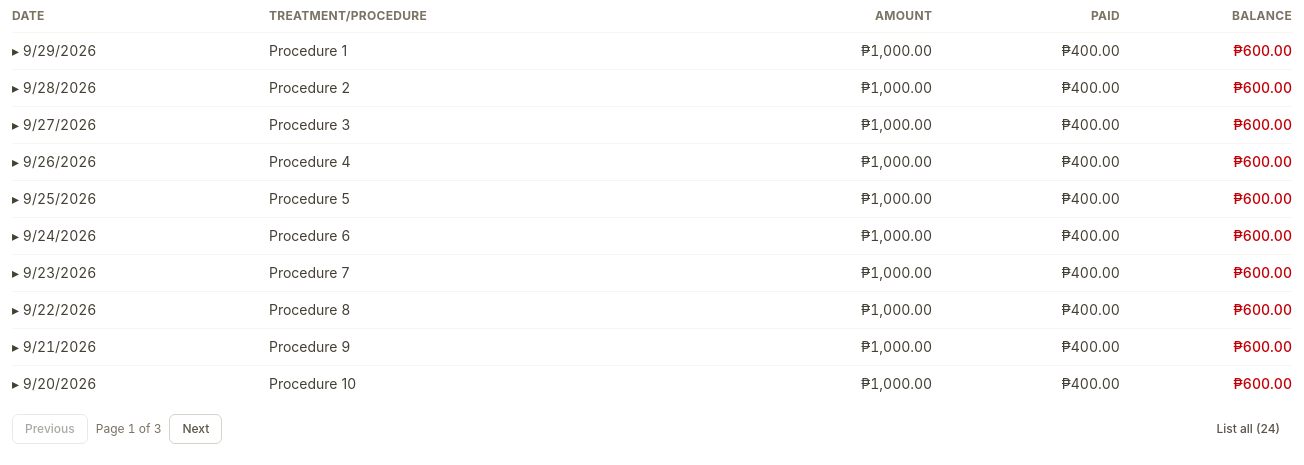
Scenario: VisitHistoryTable › pages forward and back
expect the button "Previous" is disabled: met, box [12,414,88,444]
Click the button "Next": (196, 429) [169,414,222,444]
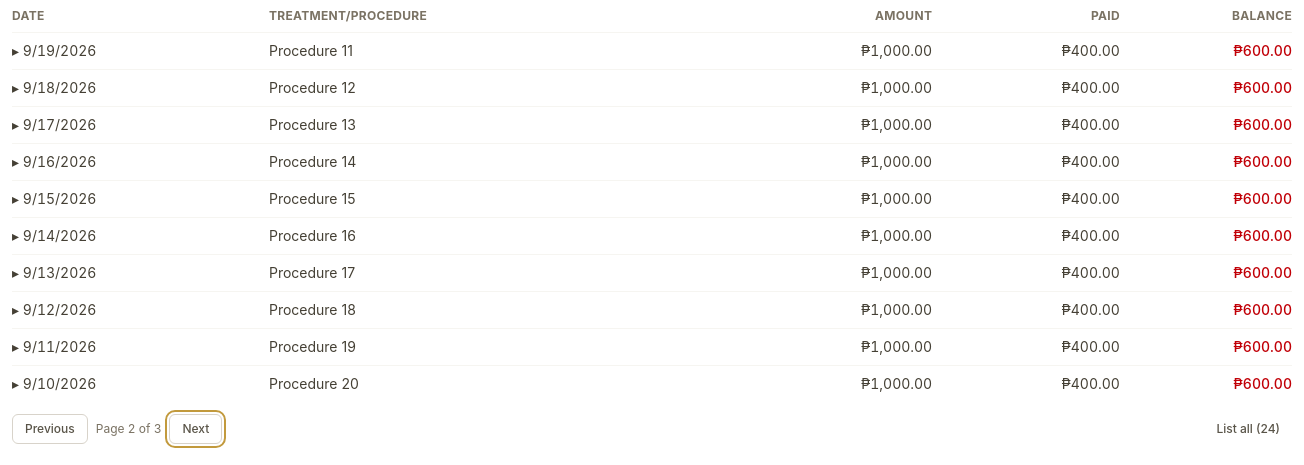
expect the cell "Procedure 11" is shown: met, box [269,32,722,70]
Click the button "Next": (196, 429) [169,414,222,444]
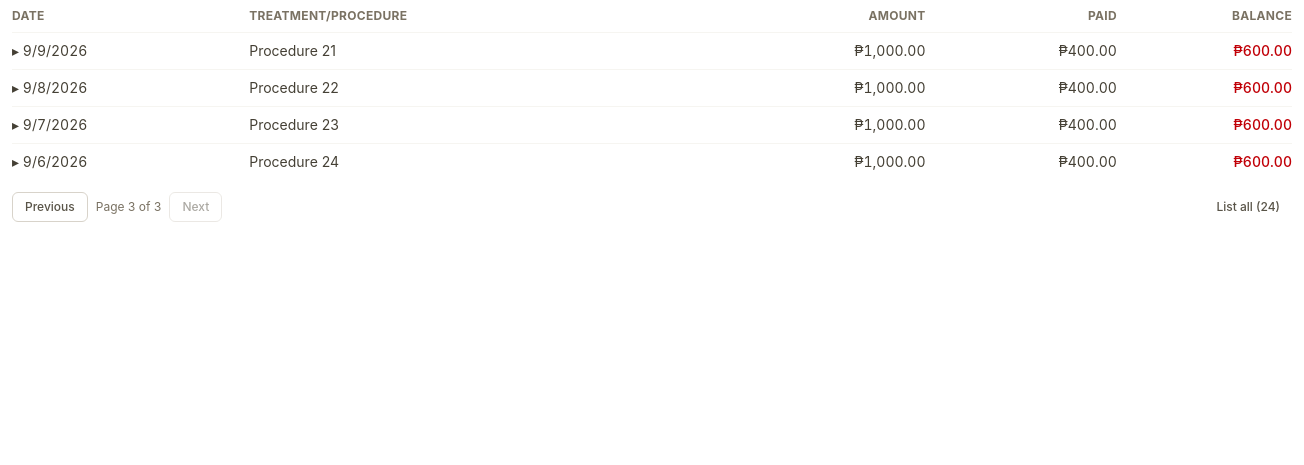
expect the button "Next" is disabled: met, box [169,192,222,222]
Click the button "Previous": (50, 207) [12,192,88,222]
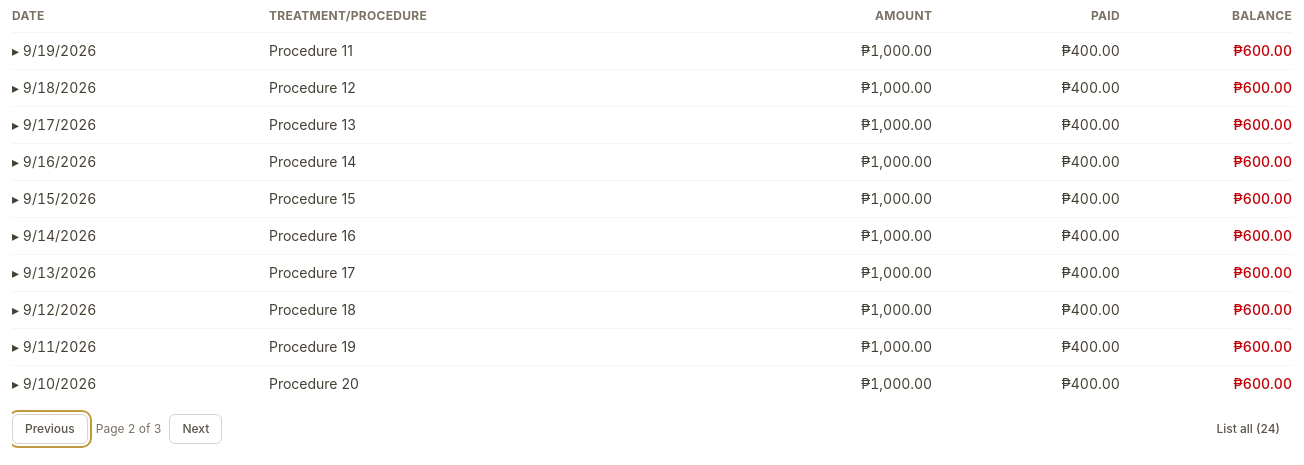
expect the cell "Procedure 11" is shown: met, box [269,32,722,70]
